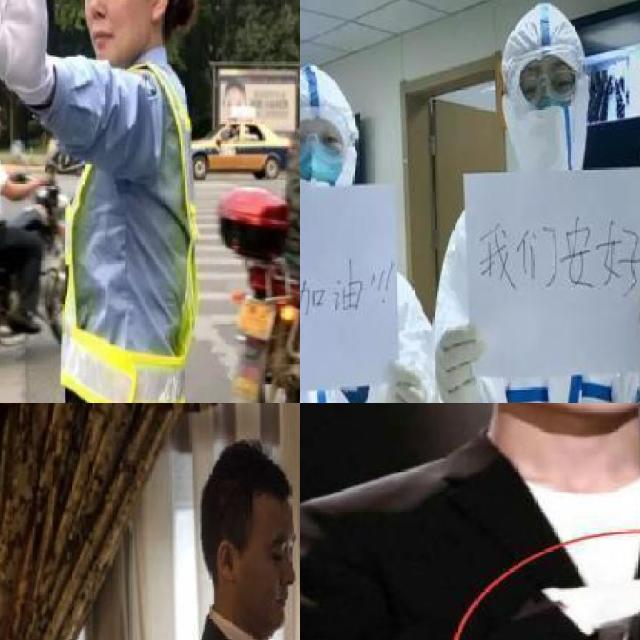No_Ear-Protection: (215, 540, 237, 586)
face_nomask: (230, 504, 300, 636), (73, 0, 145, 67), (300, 115, 347, 199)
glasses: (501, 44, 585, 126)
hand_glove: (554, 571, 640, 640), (432, 322, 486, 403), (0, 0, 52, 80), (387, 359, 426, 403)
hand_noglove: (38, 170, 52, 184)
head_nohelmet: (193, 444, 300, 518), (492, 2, 592, 73), (300, 69, 359, 129)
person: (0, 0, 223, 403), (425, 10, 640, 403), (300, 403, 640, 640), (300, 55, 444, 403), (163, 438, 300, 640)
vest: (58, 56, 206, 403)
